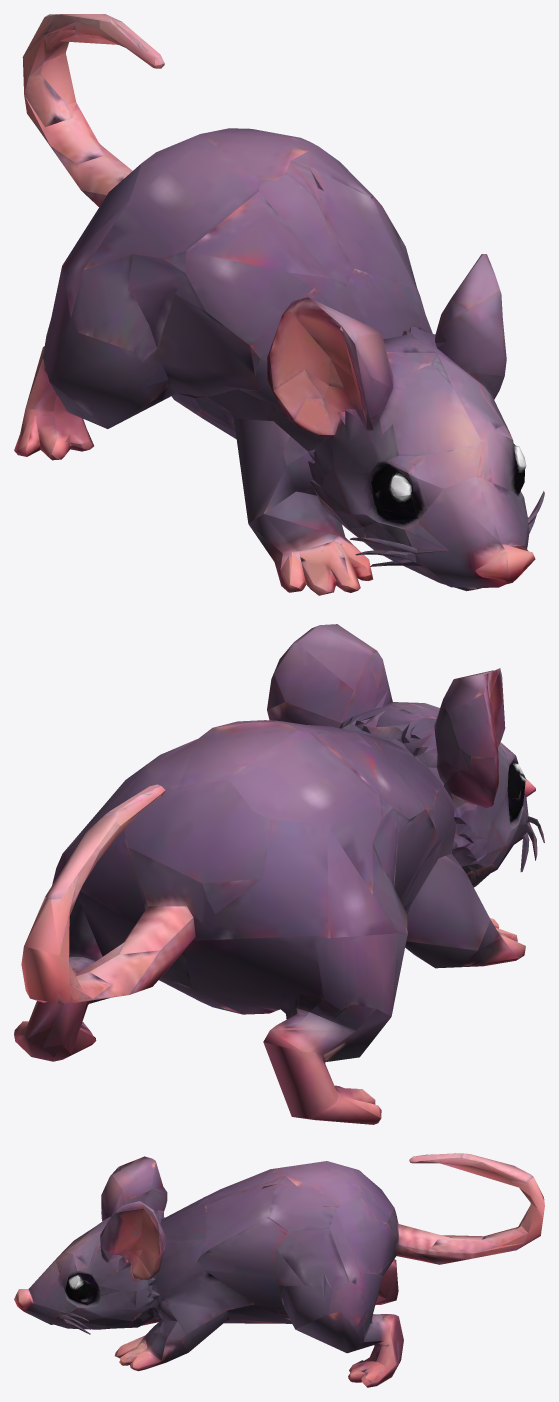
Rendered from rat-0.glb.
3 views of the same model, one above another, from view 1: azimuth 30°, elevation 25°; view 2: azimuth 150°, elevation 25°; view 3: azimuth 270°, elevation 25° (orthographic). The views are drawn at different scales.
Size of the model in its own units: 0.8338 by 0.7264 by 1.88.
Materials: 1 (1 with a texture image).
